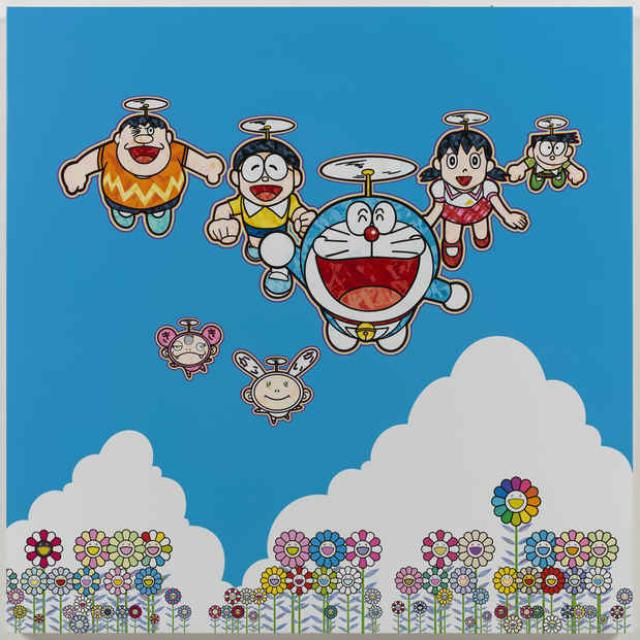doraemon: (297, 182, 457, 358)
jaian: (98, 104, 186, 190)
nobita: (212, 124, 314, 226)
shizuka: (409, 128, 502, 210)
suneo: (519, 116, 589, 180)
